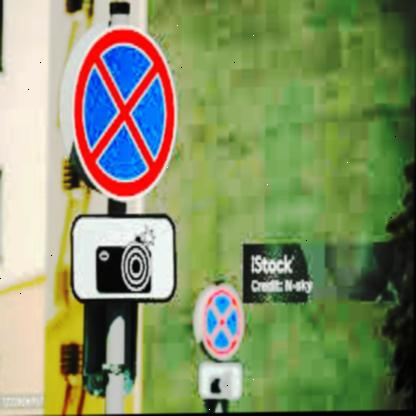No stopping: (71, 18, 176, 208), (190, 274, 243, 369)
